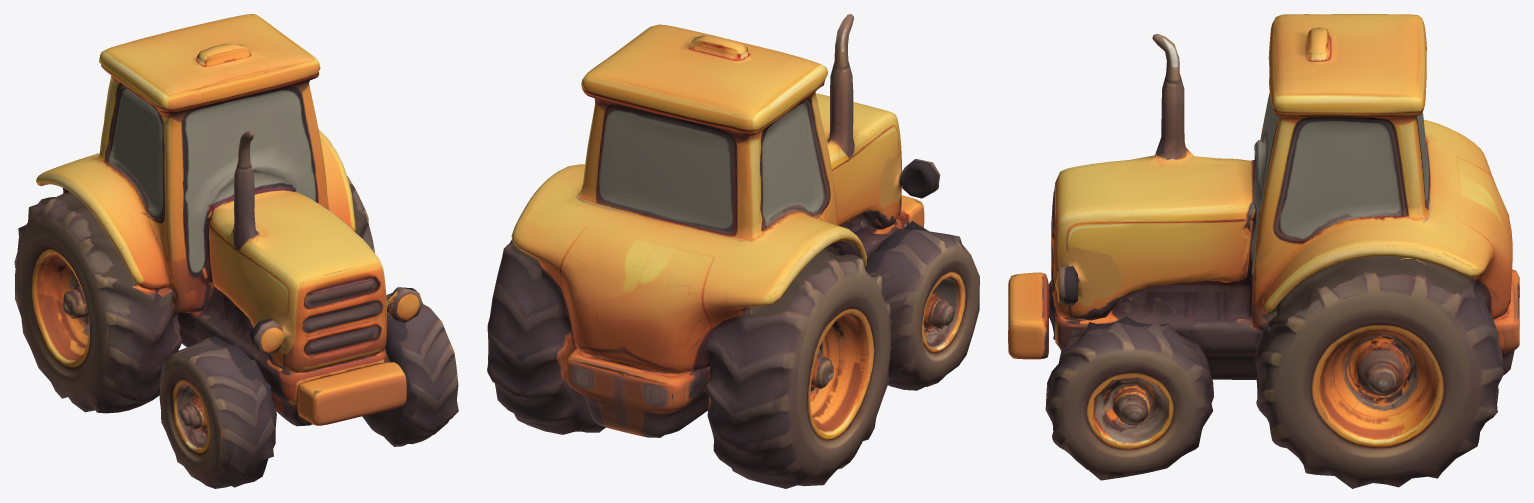
Rendered from Tractor.fbx.
3 views of the same model, side by side, from view 1: azimuth 30°, elevation 25°; view 2: azimuth 150°, elevation 25°; view 3: azimuth 270°, elevation 25° (orthographic). The views are drawn at different scales.
Visible parts, largest first — view 1: Retopo_model; view 2: Retopo_model; view 3: Retopo_model.
Boxes of the visible parts, x1,y1,x2,y2 form: Retopo_model: [14, 14, 458, 488]; Retopo_model: [487, 14, 979, 488]; Retopo_model: [1008, 14, 1519, 488].
Size of the model in its own units: 122 by 147 by 175.
1 material, 1 textured.
